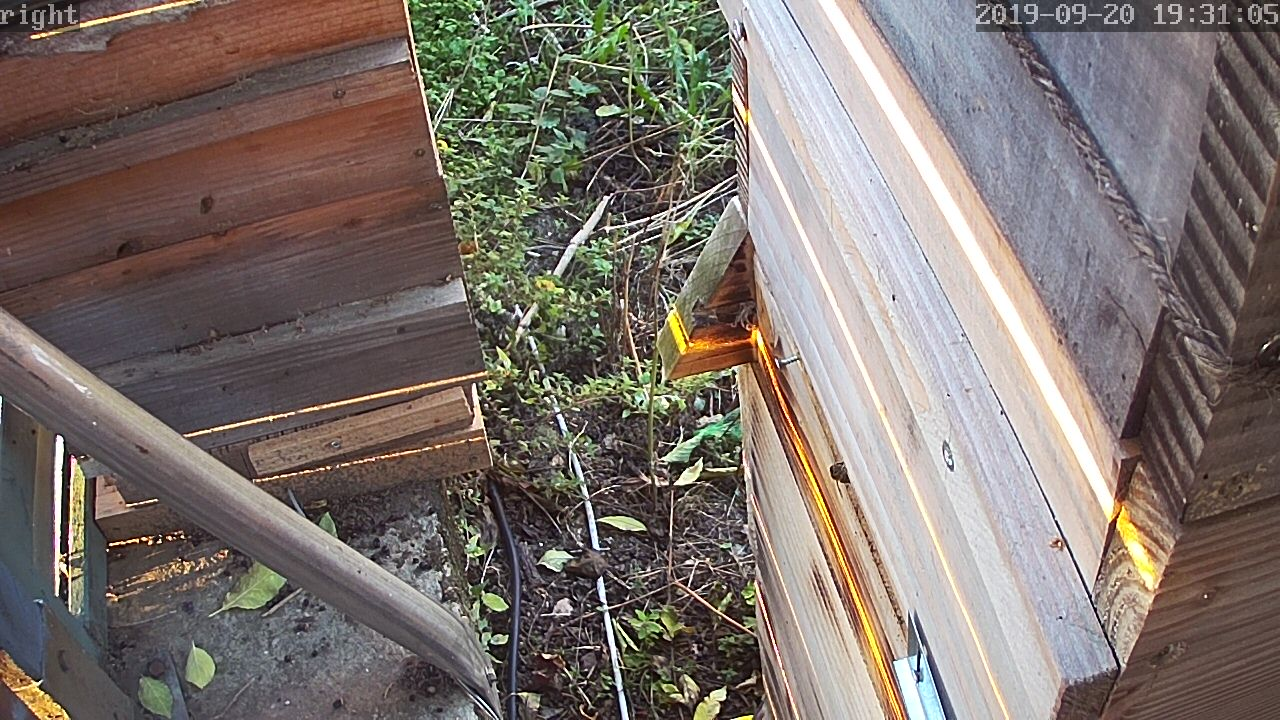bee: (825, 458, 856, 489)
